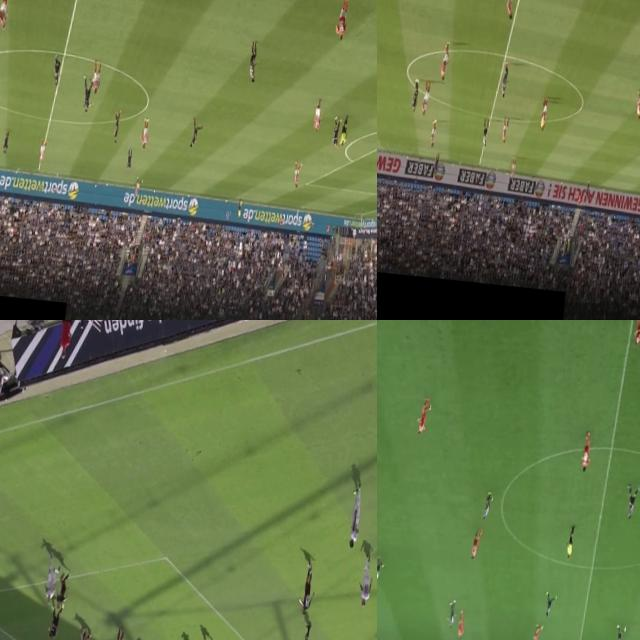player: (344, 484, 364, 550), (298, 559, 316, 616), (42, 552, 59, 605), (358, 556, 374, 610), (334, 0, 351, 48), (622, 482, 638, 522), (56, 562, 69, 610), (246, 41, 259, 86), (79, 75, 93, 114), (439, 42, 452, 84), (46, 603, 60, 640), (417, 399, 431, 436), (500, 0, 520, 25), (579, 432, 591, 472), (90, 62, 102, 99), (421, 82, 433, 119), (409, 76, 421, 113), (498, 66, 510, 102), (312, 96, 324, 131), (543, 590, 556, 620), (454, 608, 466, 640), (331, 115, 342, 148), (189, 117, 200, 150), (140, 115, 150, 151), (538, 96, 548, 132), (470, 524, 480, 560), (428, 118, 439, 150), (51, 54, 62, 85), (1, 122, 11, 156), (446, 594, 456, 628), (482, 492, 492, 522), (110, 111, 120, 140), (629, 320, 640, 346), (292, 162, 302, 190), (132, 174, 142, 202), (480, 121, 489, 150), (36, 140, 46, 164), (125, 148, 134, 174), (499, 119, 508, 145), (0, 0, 8, 27), (634, 88, 640, 124), (111, 626, 126, 640), (613, 624, 626, 640), (530, 622, 541, 640), (76, 628, 88, 640), (508, 160, 515, 180)
